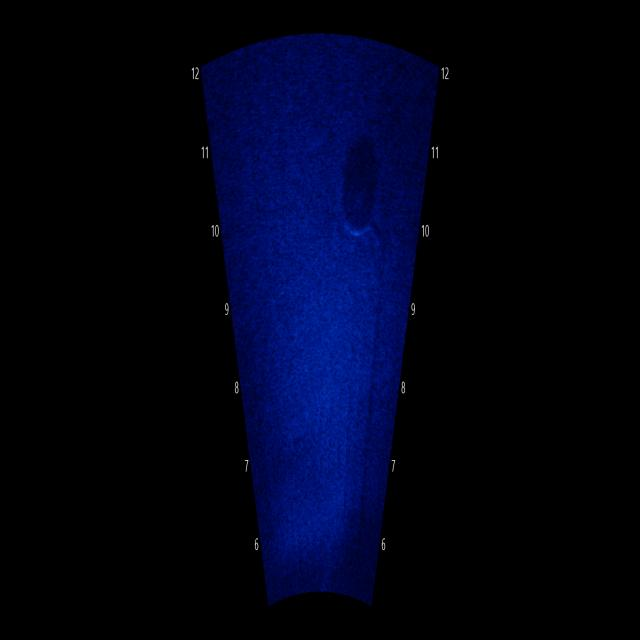circle: (332, 137, 385, 255)
